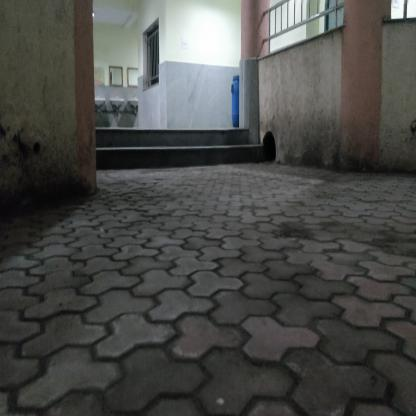stairs: (100, 126, 239, 172)
